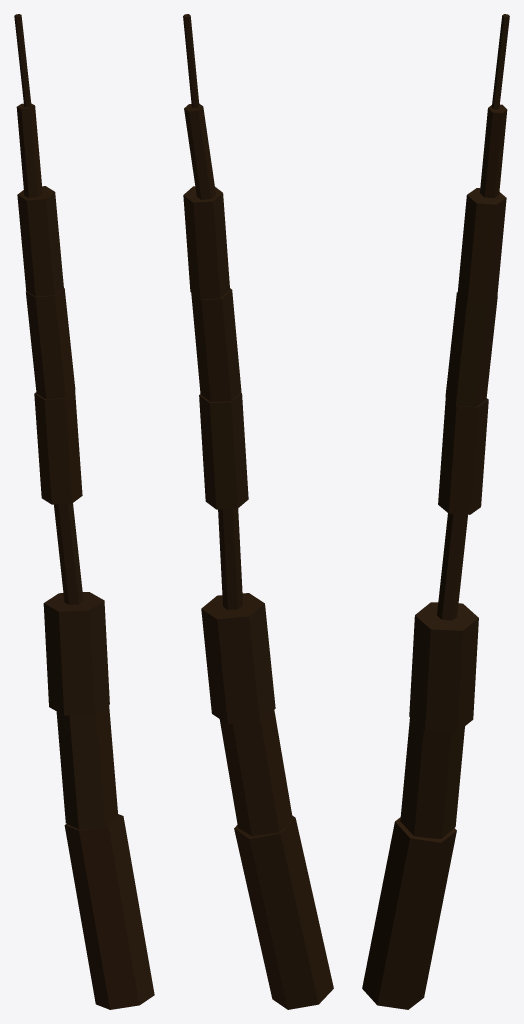
Rendered from 2022_tree_539_no_leaf.obj.
3 views of the same model, side by side, from view 1: azimuth 90°, elevation 25°; view 2: azimuth 150°, elevation 25°; view 3: azimuth 270°, elevation 25° (orthographic). The views are drawn at different scales.
Parts seen in each view (by area): view 1: TrunkAndBranches; view 2: TrunkAndBranches; view 3: TrunkAndBranches.
Boxes of the visible parts, x1=… form: TrunkAndBranches: x1=14, y1=14, x2=154, y2=1009; TrunkAndBranches: x1=183, y1=14, x2=333, y2=1009; TrunkAndBranches: x1=362, y1=14, x2=509, y2=1009.
Size of the model in its own units: 0.29 by 3.06 by 0.4043.
